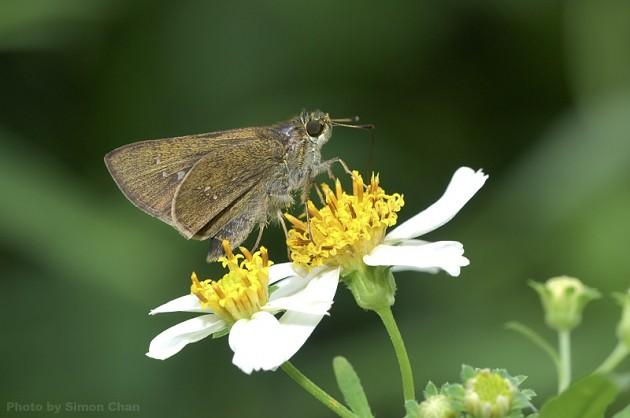Hesperiidae: (102, 105, 383, 259)
